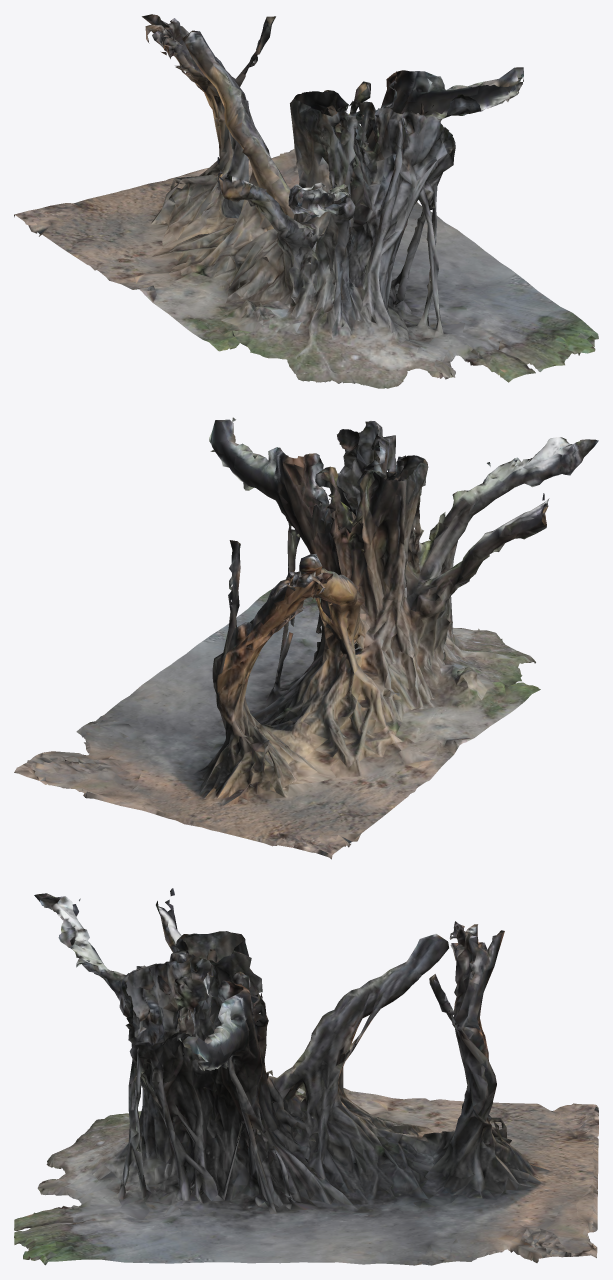
Rendered from root_arch.gltf.
The picture shows the model from 3 angles, top to bottom: view 1: azimuth 30°, elevation 25°; view 2: azimuth 150°, elevation 25°; view 3: azimuth 270°, elevation 25°; orthographic projection. The views are drawn at different scales.
Visible parts, largest first — view 1: root_arch; view 2: root_arch; view 3: root_arch.
Boxes of the visible parts, <box> form: root_arch: <box>14,14,598,388</box>; root_arch: <box>14,417,598,859</box>; root_arch: <box>14,888,598,1265</box>.
Bounding box in the file's own units: 14.52 × 10.04 × 22.35.
1 material, 1 textured.
